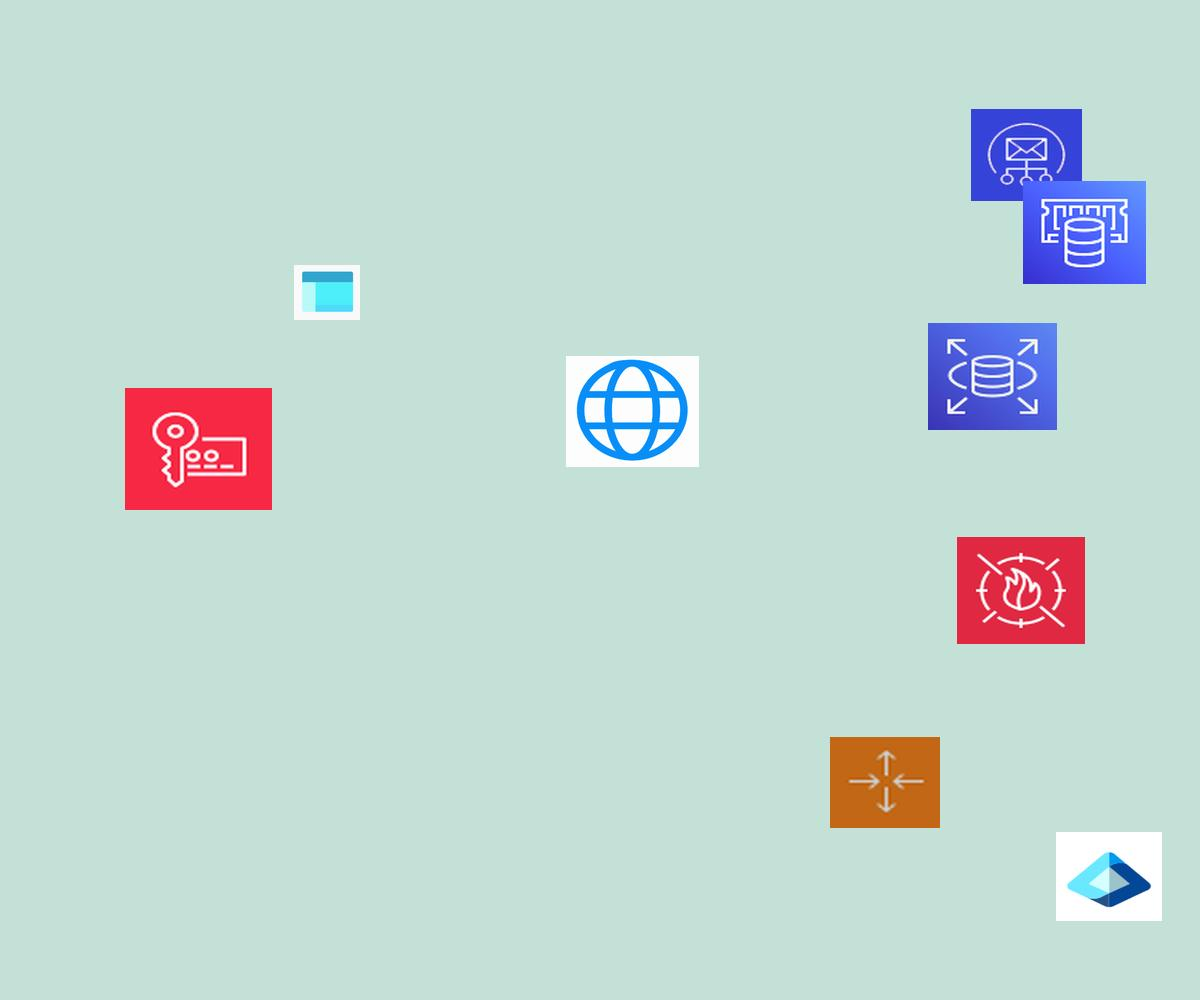AWS-ElastiCache: (1023, 181, 1146, 284)
AWS-Key-Management-Service: (125, 388, 272, 510)
AWS-RDS: (928, 323, 1057, 430)
AWS-Scaling-group: (830, 737, 940, 828)
AWS-Simple-Email-Service: (971, 109, 1082, 201)
AWS-WAF: (957, 537, 1085, 644)
Azure_http: (566, 356, 699, 467)
Azure_management-portal: (294, 265, 360, 320)
Azure_microsoft_entra: (1056, 832, 1162, 921)
